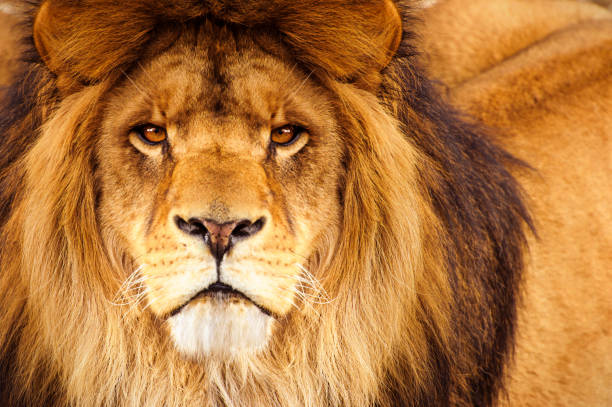lion: (2, 3, 485, 407)
